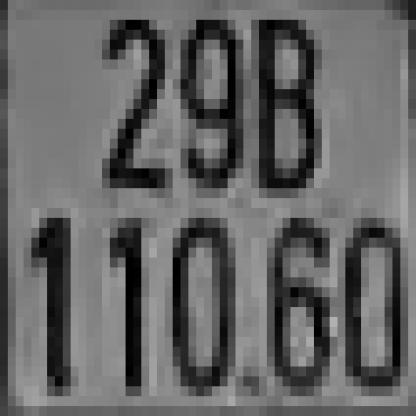0: (172, 208, 228, 386), (338, 208, 392, 386)
1: (102, 218, 157, 386), (23, 218, 78, 386)
2: (102, 20, 165, 198)
6: (259, 208, 322, 386)
9: (180, 20, 236, 188)
B: (251, 20, 314, 188)
